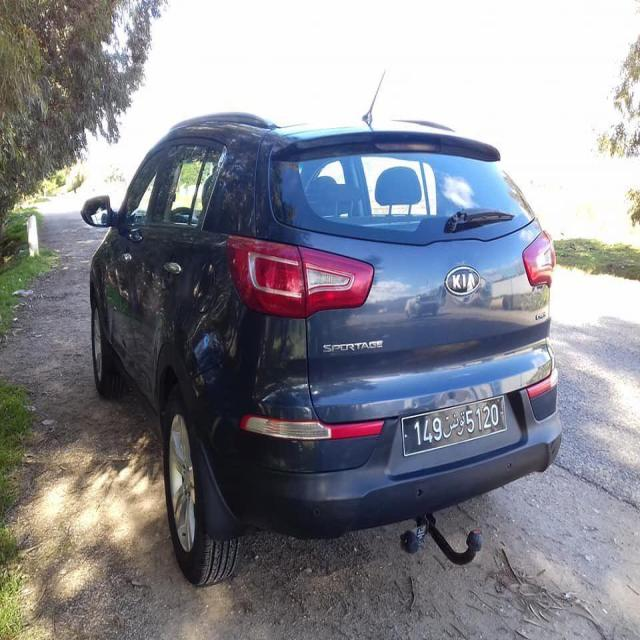LP: (399, 394, 509, 456)
